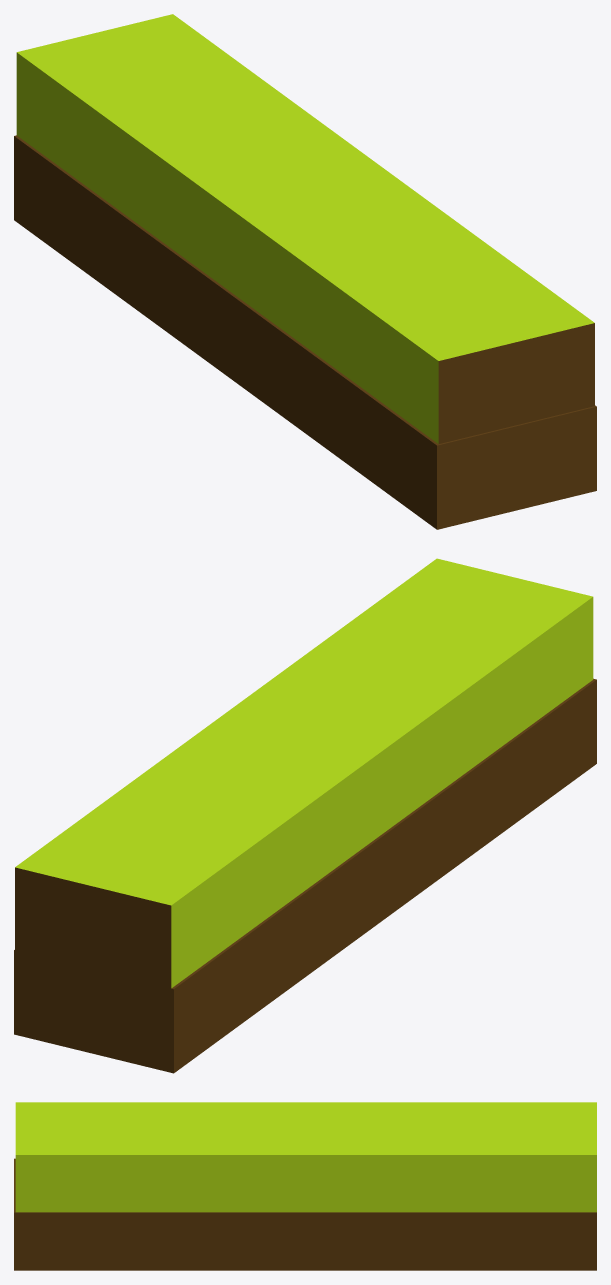
Rendered from Stage.gltf.
3 renders of one model, top to bottom at view 1: azimuth 30°, elevation 25°; view 2: azimuth 150°, elevation 25°; view 3: azimuth 270°, elevation 25°, orthographic. The views are drawn at different scales.
Parts seen in each view (by area): view 1: Cube; view 2: Cube; view 3: Cube.
Part boxes in pixels (x1,y1,x2,y2): Cube: (14, 14, 596, 529); Cube: (14, 558, 596, 1073); Cube: (14, 1102, 596, 1270).
Bounding box in the file's own units: 2 × 2 × 9.17.
